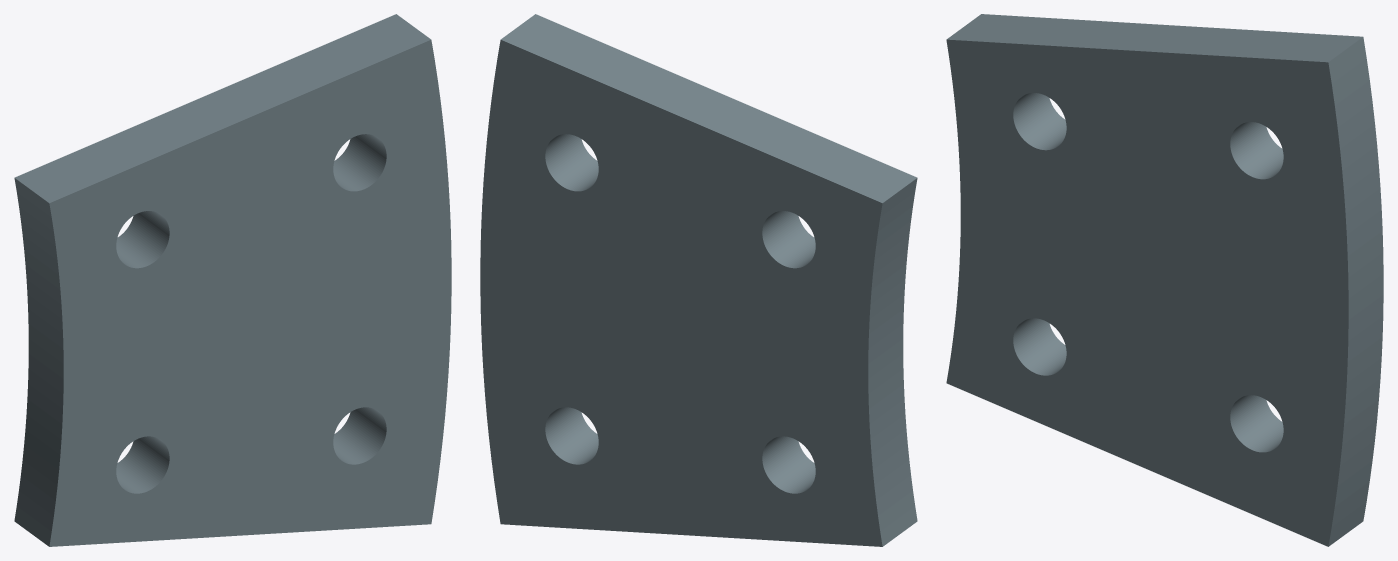
Rendered from est_eclisa.glb.
The picture shows the model from 3 angles, left to right: view 1: azimuth 30°, elevation 25°; view 2: azimuth 150°, elevation 25°; view 3: azimuth 330°, elevation 25°; orthographic projection.
Parts seen in each view (by area): view 1: world; view 2: world; view 3: world.
Part boxes in pixels (x1,y1,x2,y2): world: (14, 14, 451, 546); world: (480, 14, 917, 546); world: (946, 14, 1383, 546).
Size of the model in its own units: 33.18 by 38.2 by 5.
